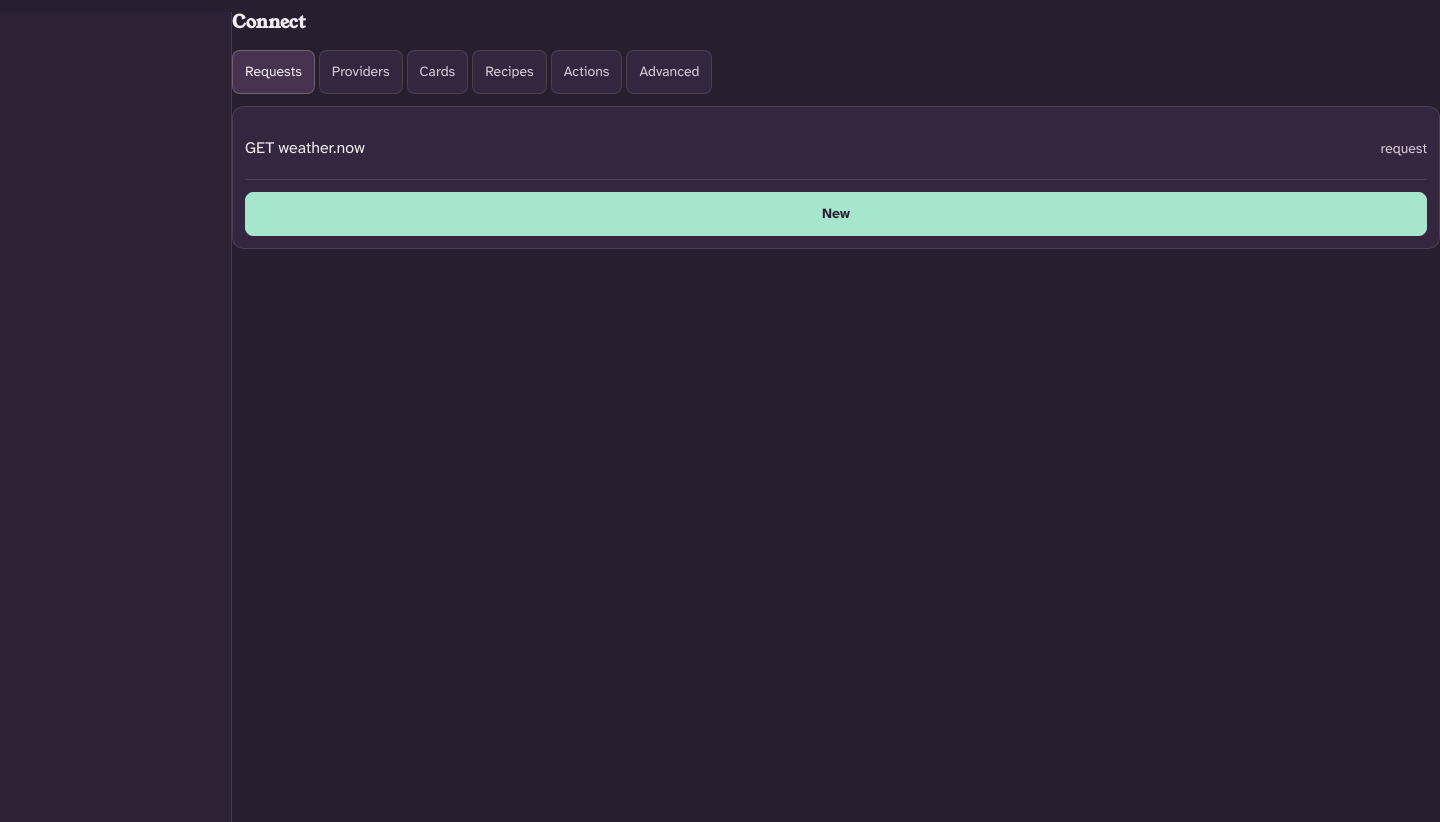
Test: Connect: config listing › providers, requests and cards list what the API returns, by id
The image size is (1440, 822).
Click the tab "Providers".
click(361, 72)  # box [319,50,402,94]
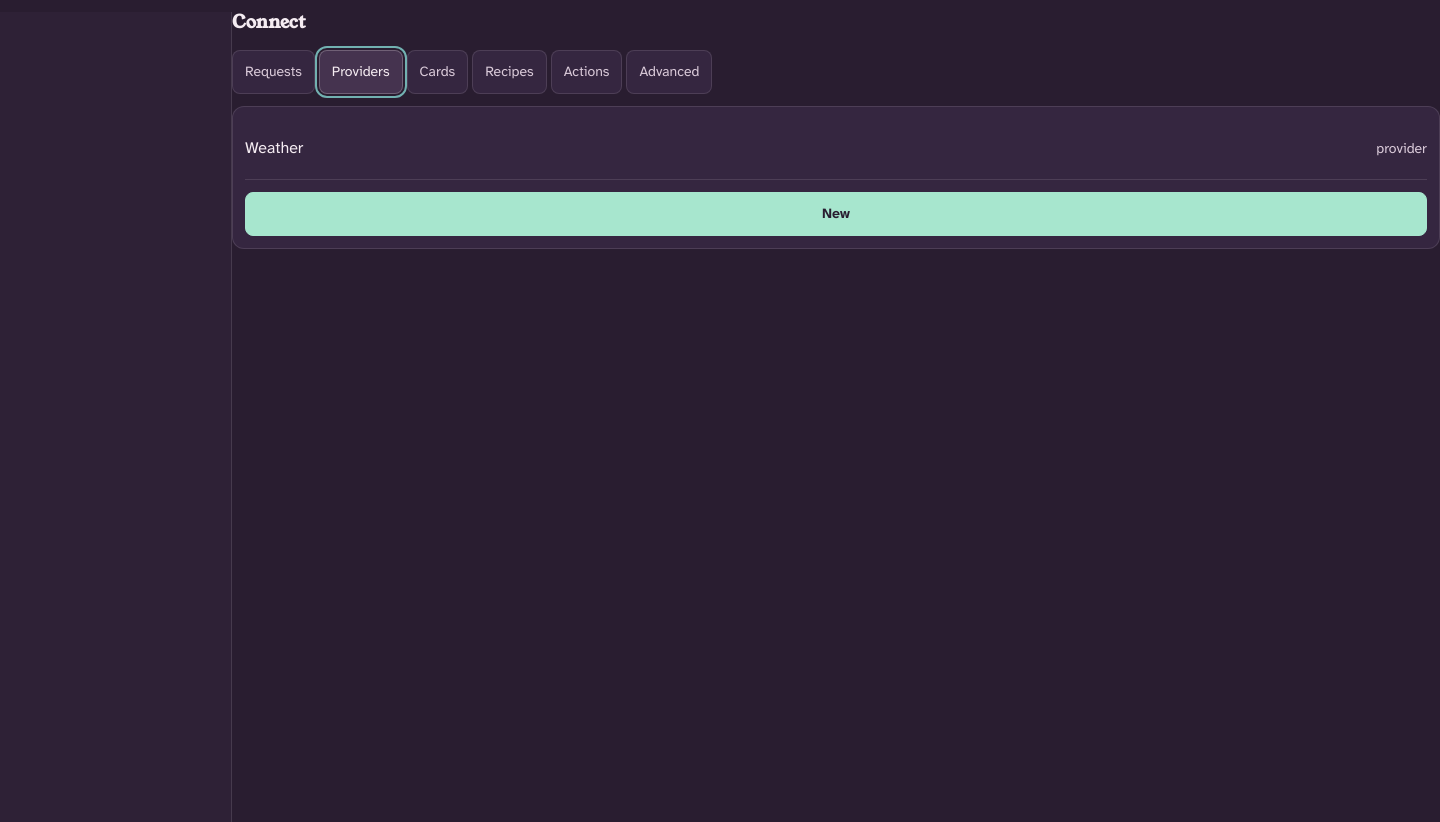
Expected: the button "Weather" is shown, [245,127,1364,171]
Click the tab "Requests".
click(273, 72)  # box [232,50,315,94]
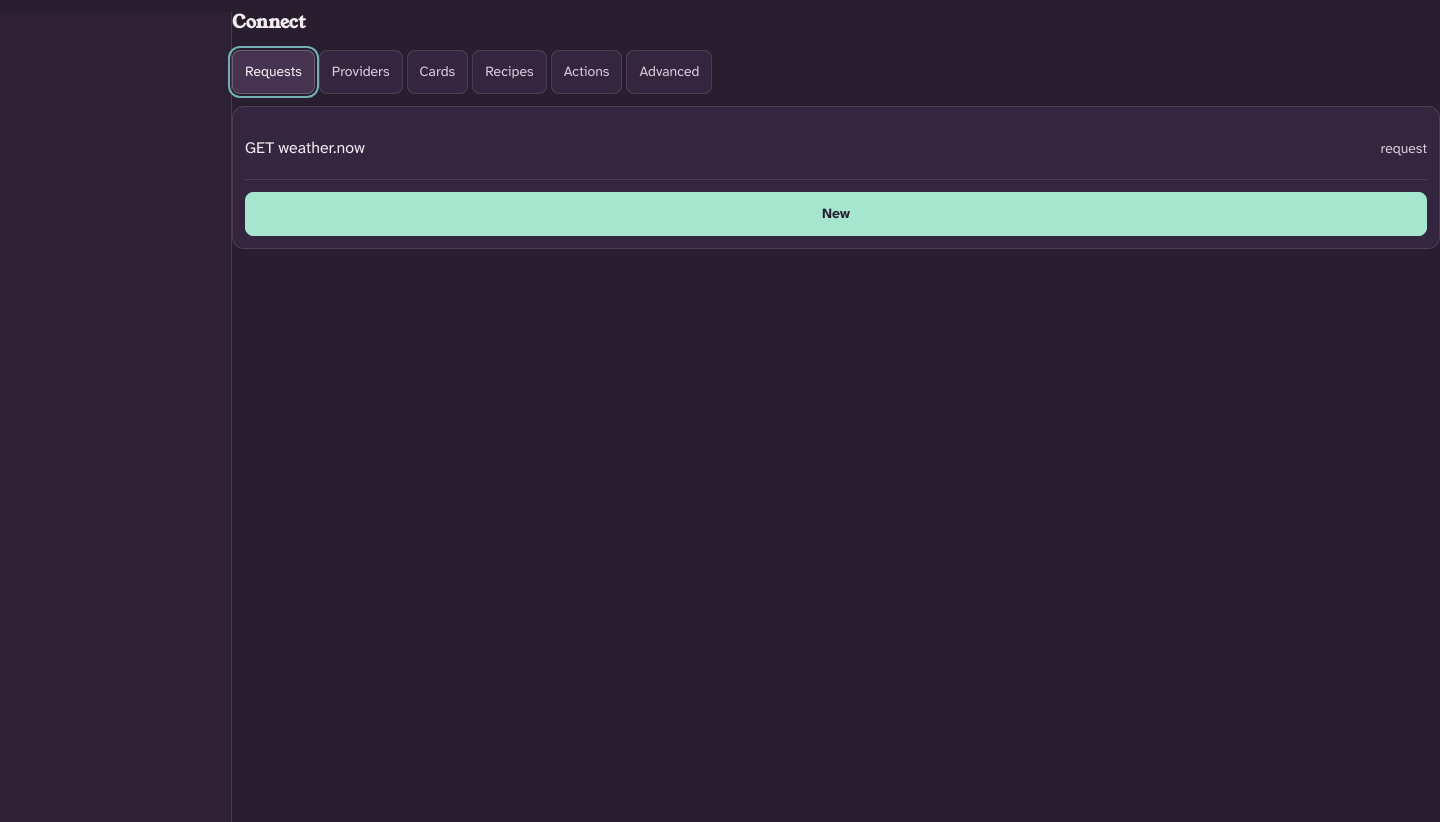
Expected: the button "GET weather.now" is shown, [245,127,1368,171]
Click the tab "Cards".
click(437, 72)  # box [407,50,468,94]
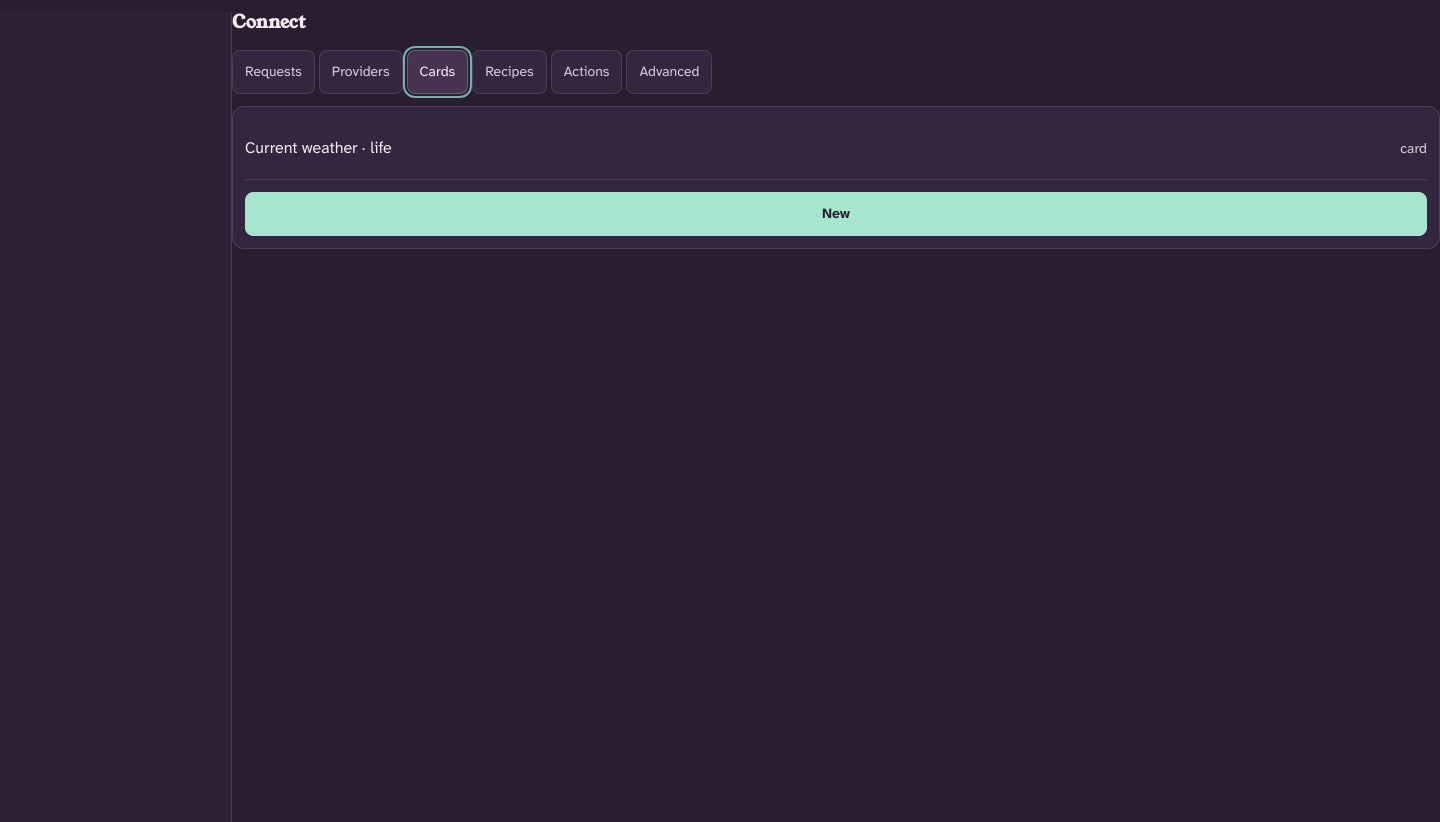
Expected: the button "Current weather · life" is shown, [245,127,1388,171]
